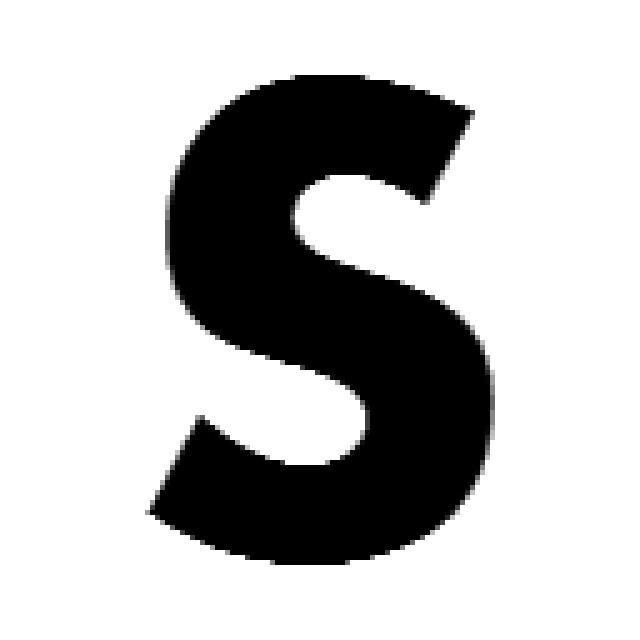S: (135, 65, 500, 570)
